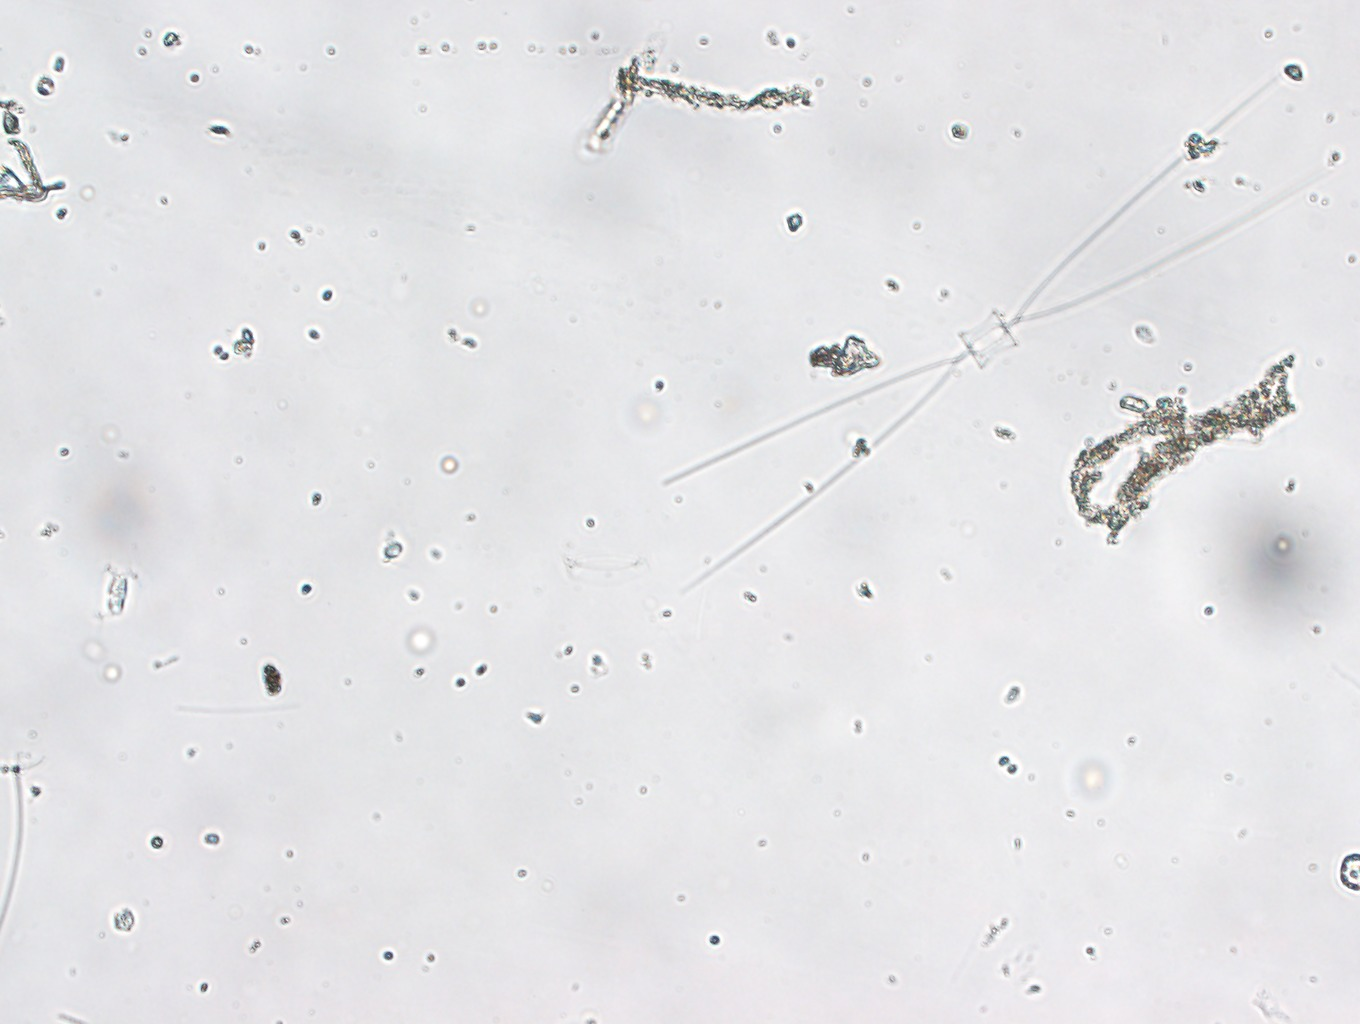chaetoceros: (652, 68, 1333, 612)
